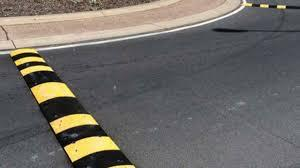Bump: (8, 49, 136, 167), (241, 2, 299, 9)
